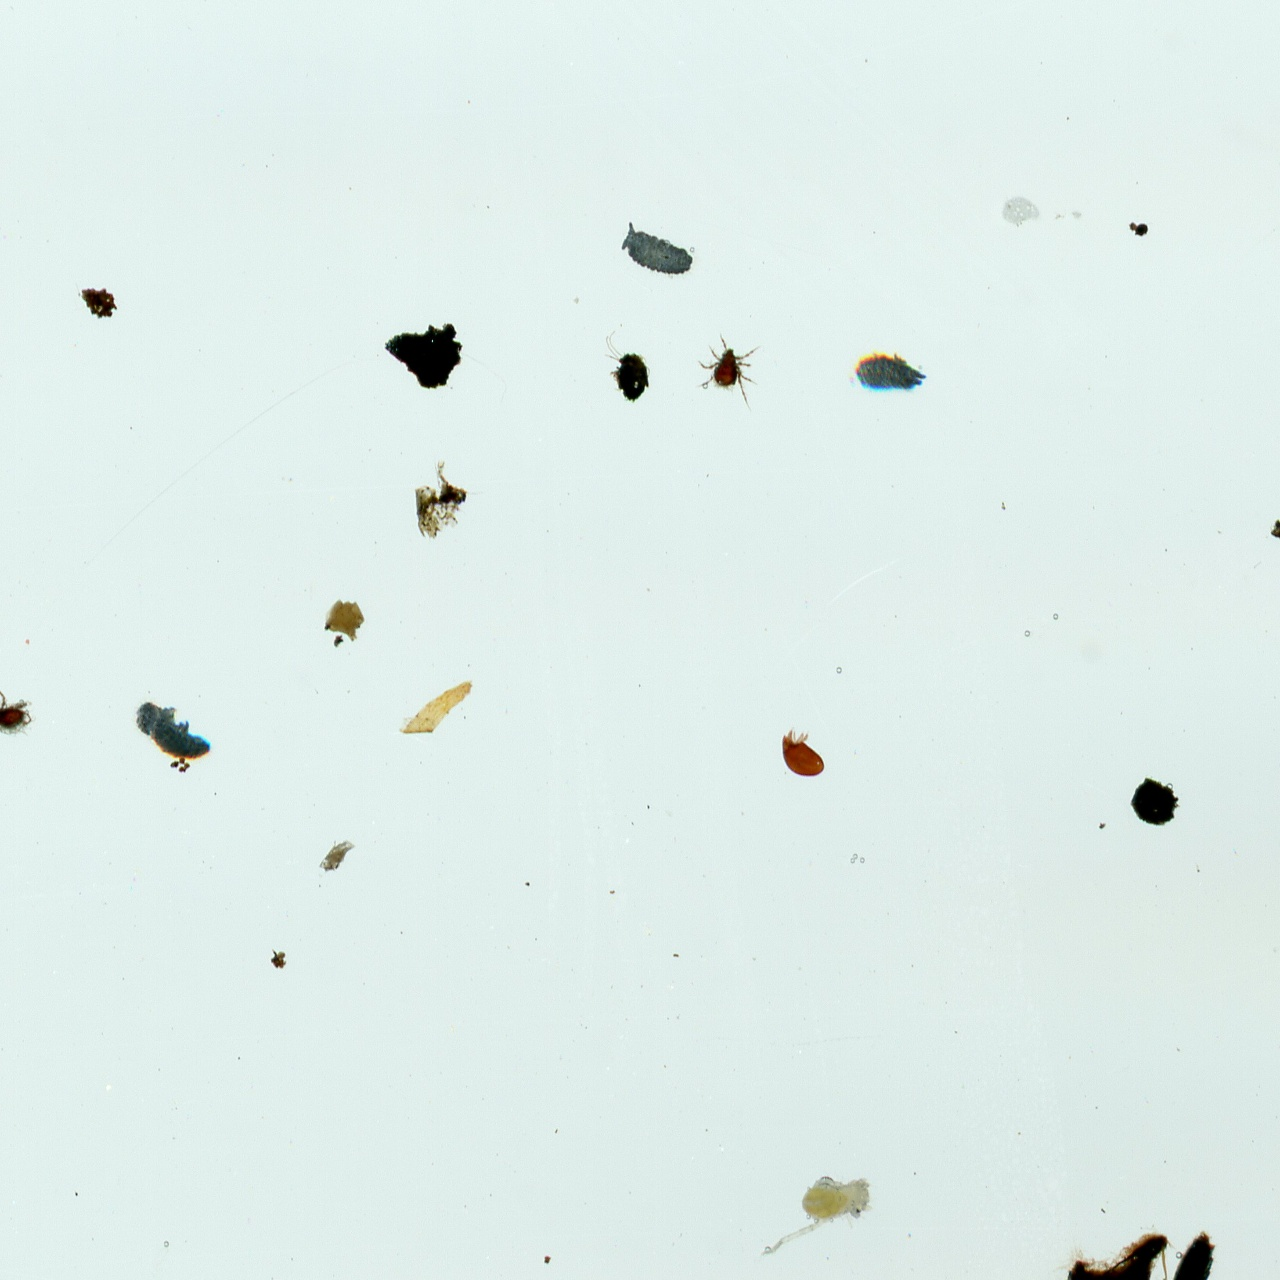arthropod: (1089, 1206, 1254, 1280), (121, 685, 223, 782), (608, 211, 706, 298), (693, 332, 763, 403), (771, 726, 835, 785), (852, 349, 931, 397), (0, 682, 40, 740)
